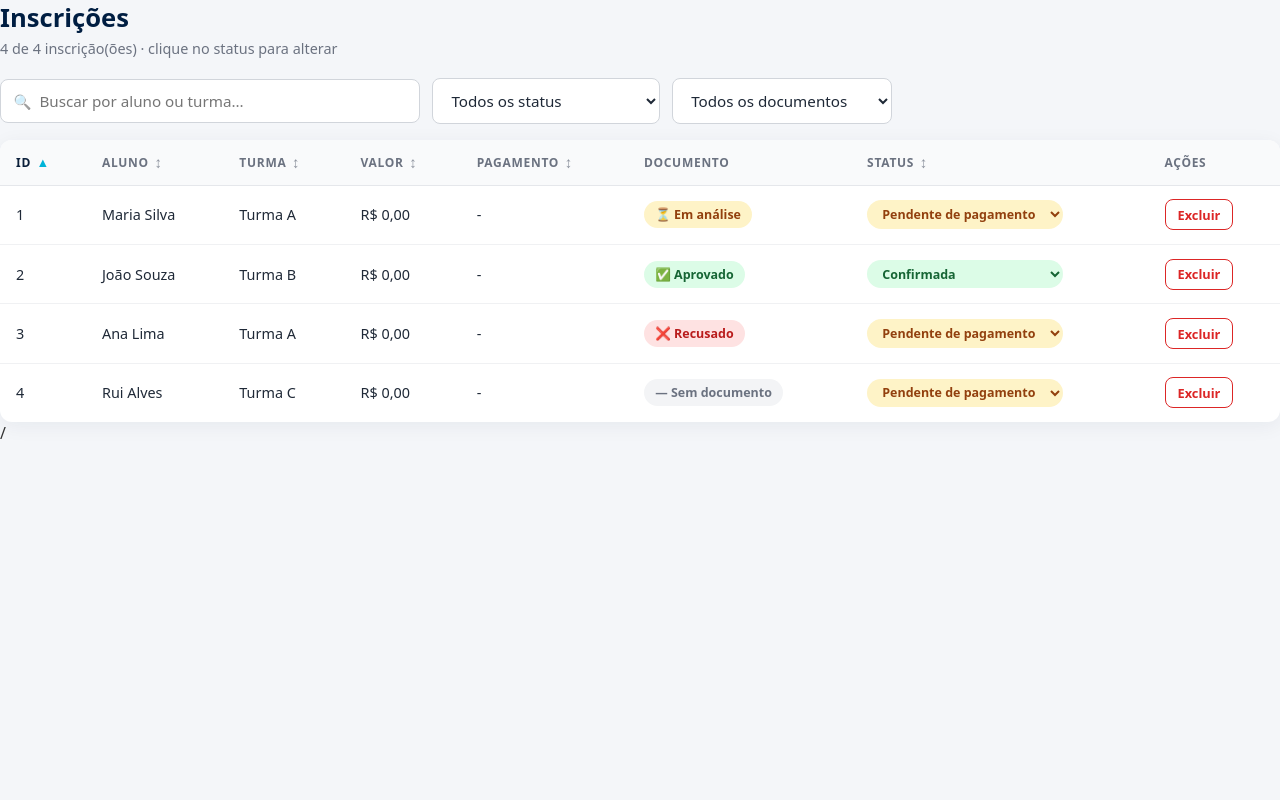
aluno sem documento, erro ao carregar e fechar a janela
Expected: the text "Rui Alves" is shown, [86, 363, 223, 422]
Click the button "— Sem documento" at x=714, y=393, box [644, 379, 783, 406]
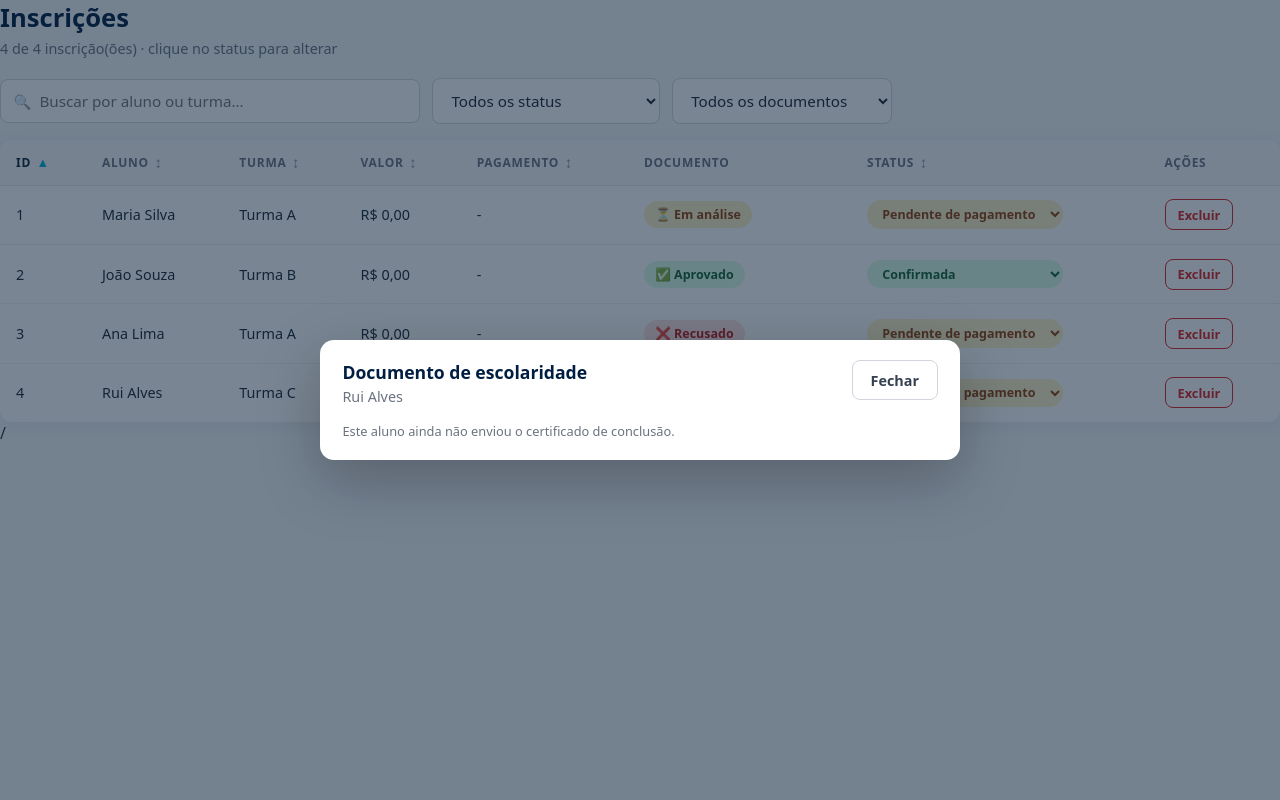
Expected: the text "Este aluno ainda não enviou o certificado de conclusão." is shown, [342, 422, 675, 440]
Click the button "Fechar" at x=895, y=380, box [852, 360, 938, 400]
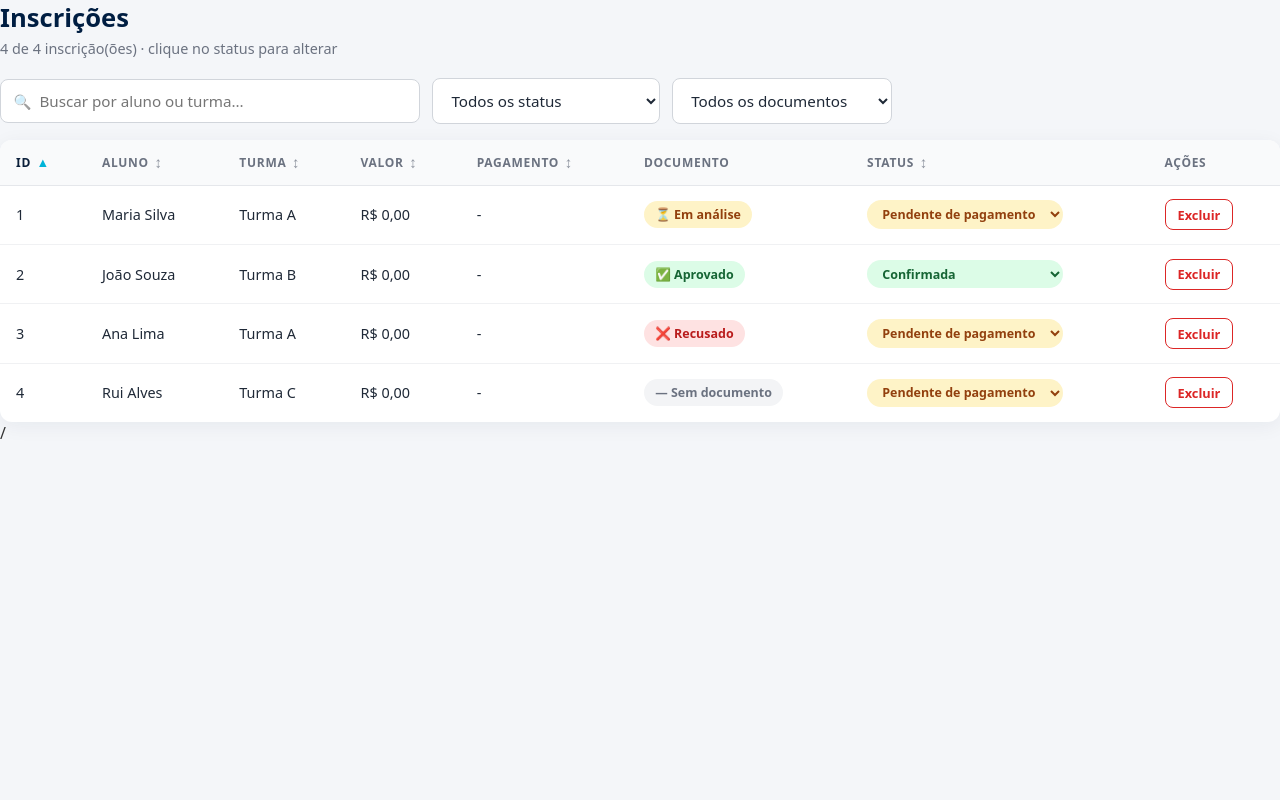
Expected: the dialog is gone
Click the button "❌ Recusado" at x=694, y=334, box [644, 320, 745, 347]
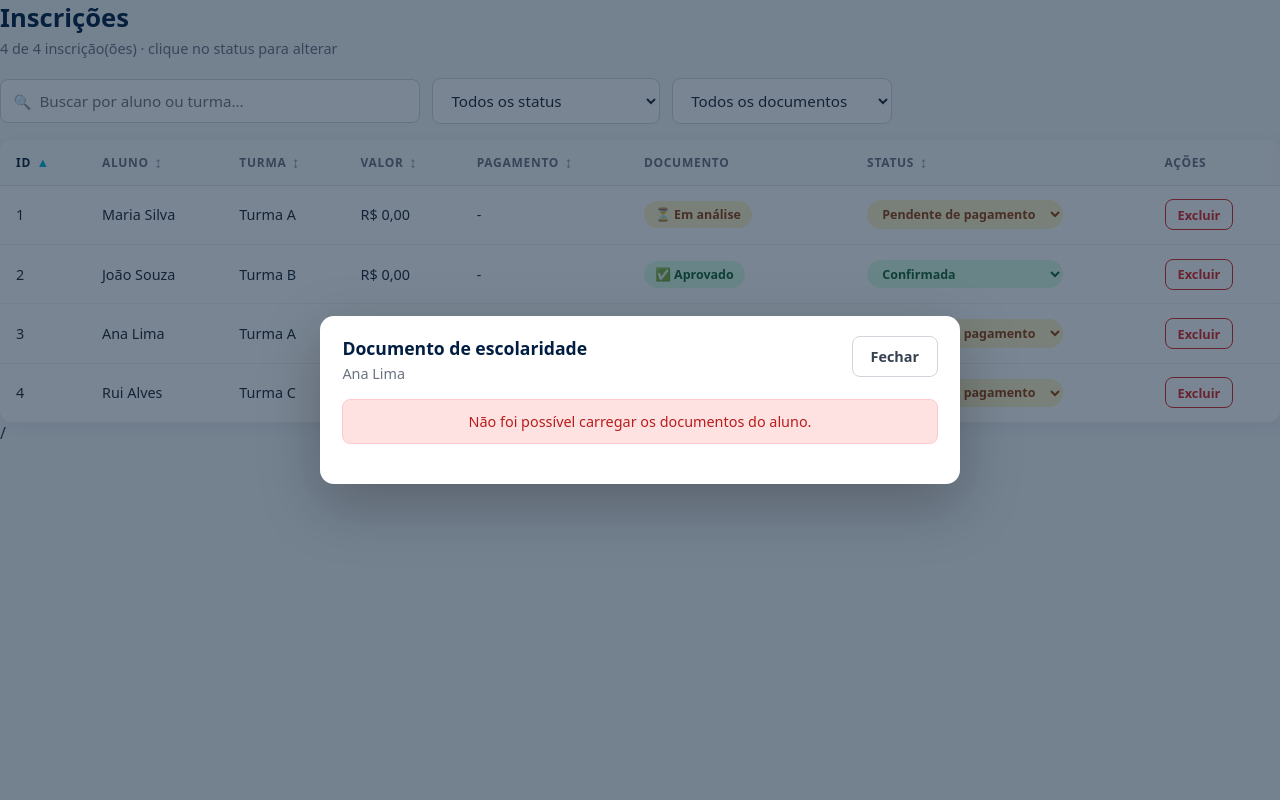
Expected: the text "Não foi possível carregar os documentos do aluno." is shown, [342, 399, 938, 444]
